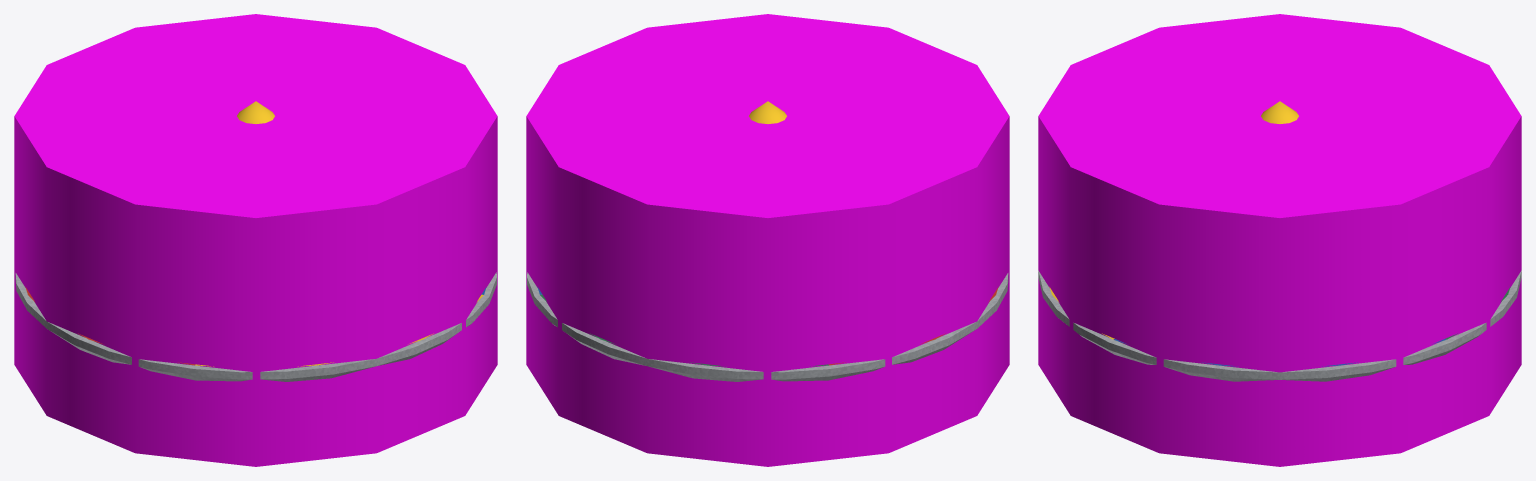
The model's file is EN_Yard_Carousel.fbx.
The picture shows the model from 3 angles, left to right: view 1: azimuth 30°, elevation 25°; view 2: azimuth 150°, elevation 25°; view 3: azimuth 270°, elevation 25°; orthographic projection.
Visible parts, largest first — view 1: COL_Body, EN_Yard_Carousel_Mesh; view 2: COL_Body, EN_Yard_Carousel_Mesh; view 3: COL_Body, EN_Yard_Carousel_Mesh.
Part boxes in pixels (x1,y1,x2,y2): COL_Body: (14,14,497,466); EN_Yard_Carousel_Mesh: (15,101,496,381); COL_Body: (526,14,1009,466); EN_Yard_Carousel_Mesh: (527,101,1008,381); COL_Body: (1038,14,1521,466); EN_Yard_Carousel_Mesh: (1038,101,1521,381).
Size of the model in its own units: 1.76 by 1.11 by 1.76.
